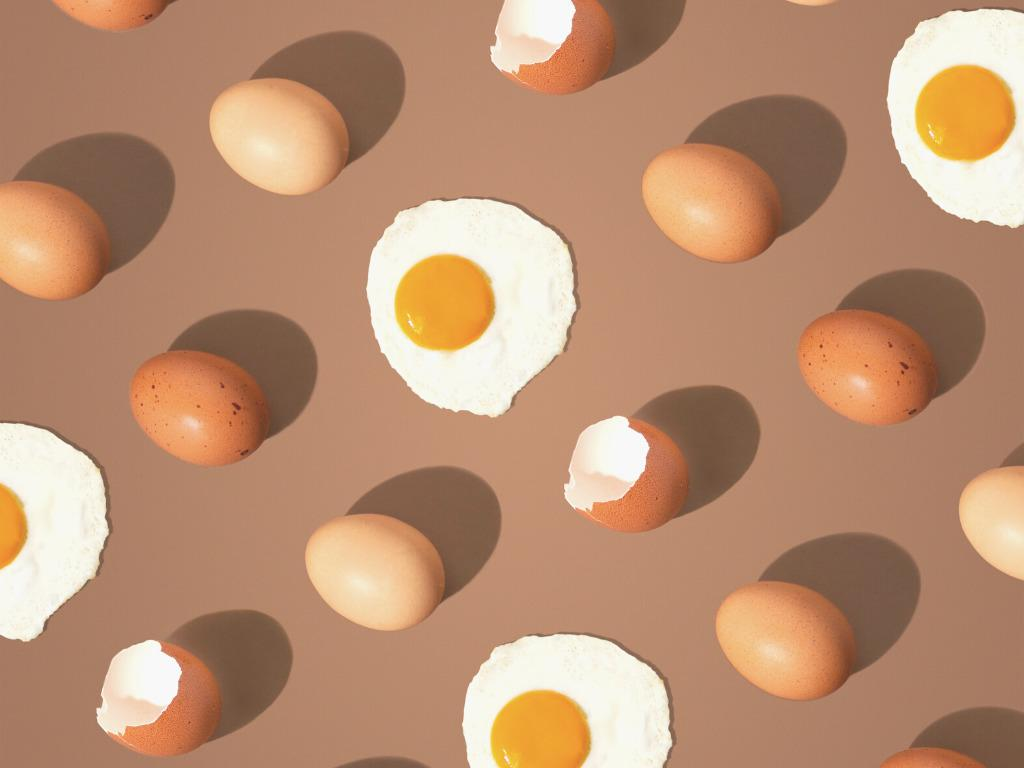egg: (201, 74, 359, 199), (712, 577, 863, 706), (638, 140, 789, 267), (301, 509, 451, 636), (124, 349, 275, 469), (796, 309, 945, 427), (0, 179, 111, 303), (958, 462, 1024, 590)
